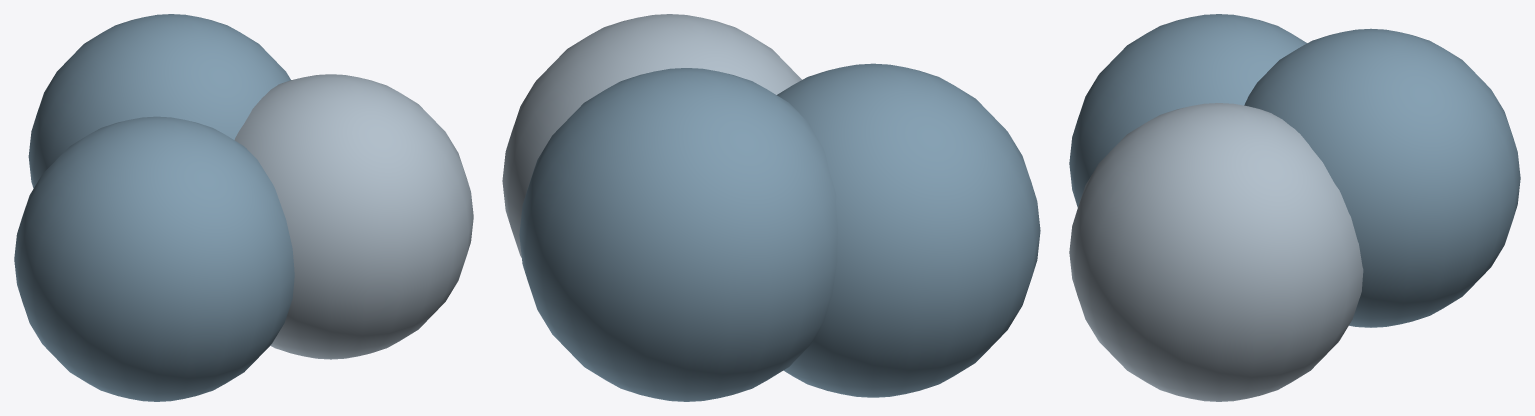
File: neutron.glb
3 views of the same model, side by side, from view 1: azimuth 30°, elevation 25°; view 2: azimuth 150°, elevation 25°; view 3: azimuth 270°, elevation 25° (orthographic). The views are drawn at different scales.
Parts seen in each view (by area): view 1: neutron_textured_mesh; view 2: neutron_textured_mesh; view 3: neutron_textured_mesh.
Part boxes in pixels (x1,y1,x2,y2): neutron_textured_mesh: [14, 14, 473, 401]; neutron_textured_mesh: [502, 14, 1040, 401]; neutron_textured_mesh: [1069, 14, 1520, 401].
Bounding box in the file's own units: 2.18 × 1.42 × 1.93.
Materials: 1 (1 with a texture image).
